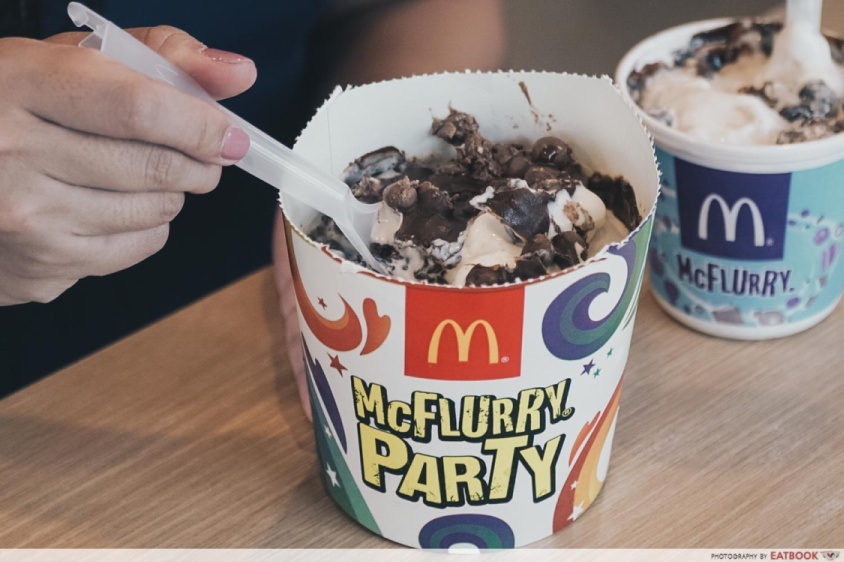mcdonalds: (418, 307, 509, 369), (692, 186, 771, 252)
